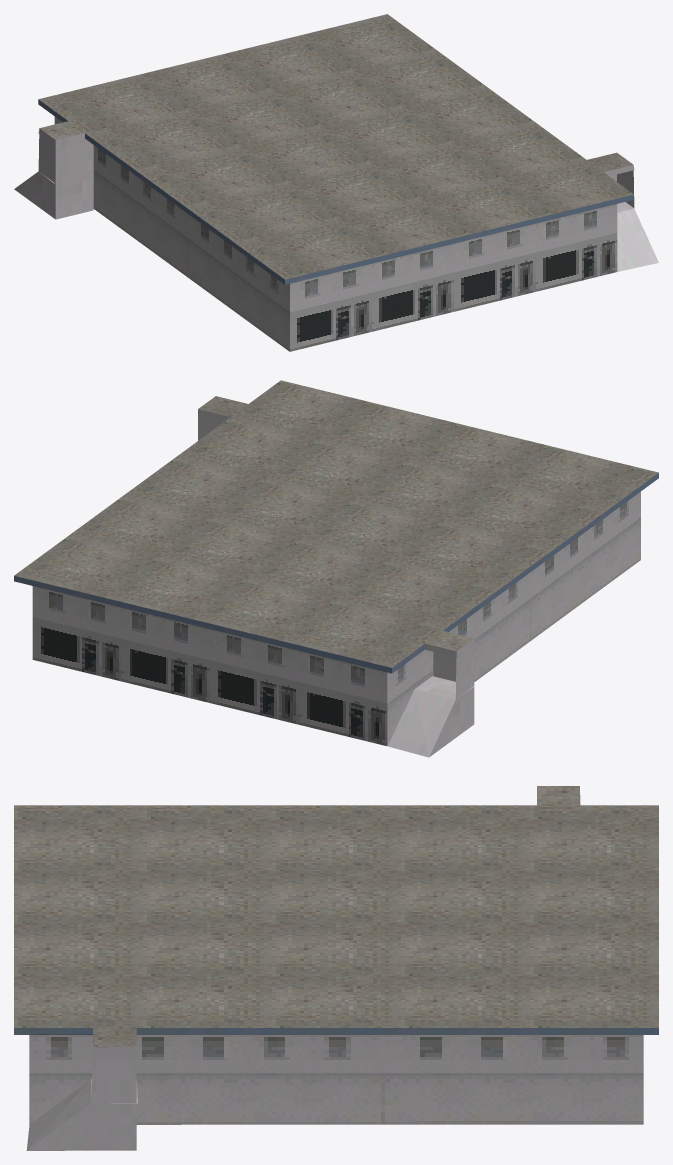
The model's file is lodp11_lvs.obj.
3 views of the same model, one above another, from view 1: azimuth 30°, elevation 25°; view 2: azimuth 150°, elevation 25°; view 3: azimuth 270°, elevation 25° (orthographic). The views are drawn at different scales.
Parts seen in each view (by area): view 1: lodp11_lvs; view 2: lodp11_lvs; view 3: lodp11_lvs.
Boxes of the visible parts, x1,y1,x2,y2 form: lodp11_lvs: [14, 14, 658, 351]; lodp11_lvs: [14, 380, 658, 757]; lodp11_lvs: [14, 786, 658, 1150].
Size of the model in its own units: 40 by 7.42 by 41.65.
2 materials, 2 textured.
